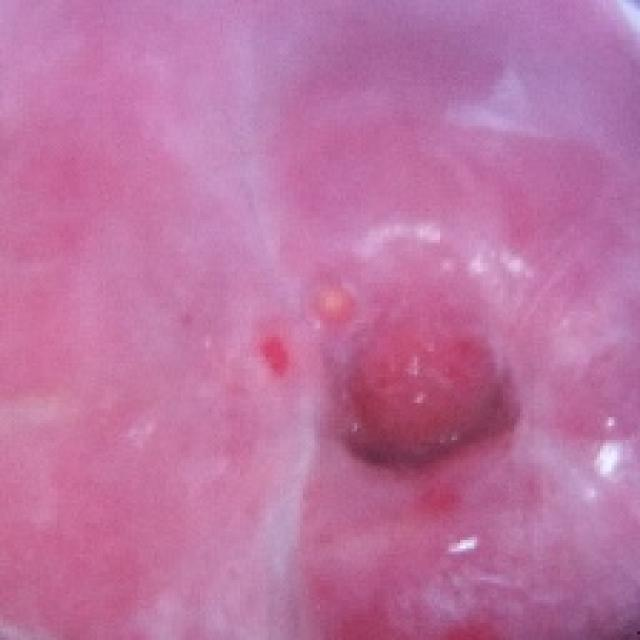type-2: (148, 163, 623, 640)
